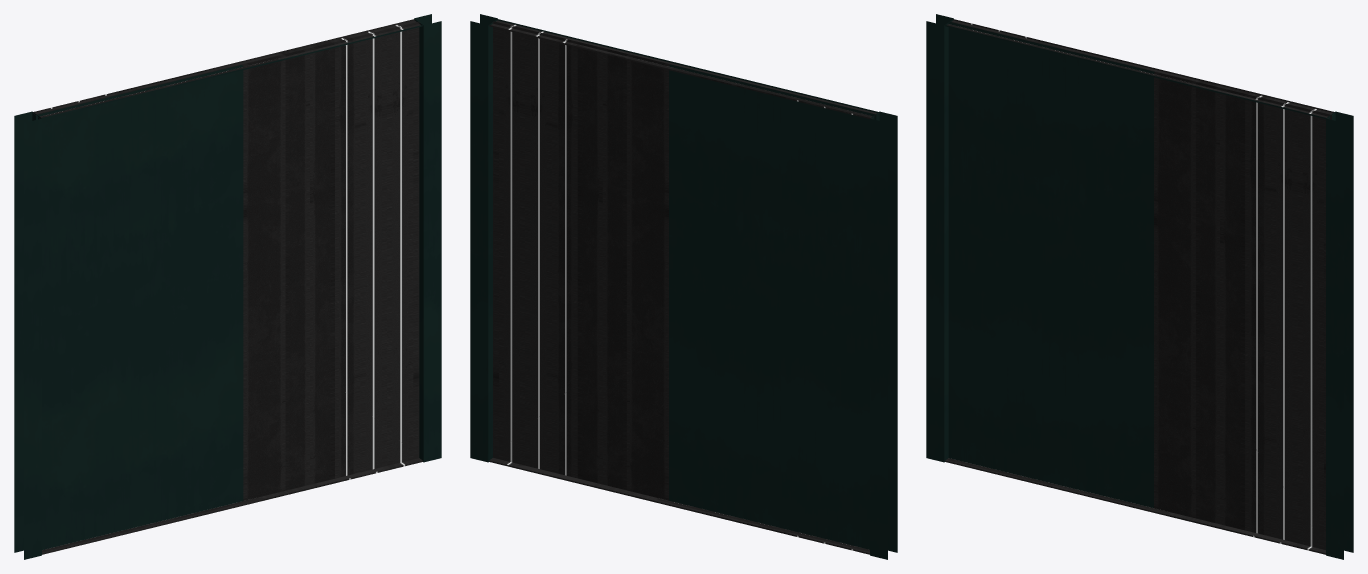
The model's file is Window_3m_A.fbx.
3 views of the same model, side by side, from view 1: azimuth 30°, elevation 25°; view 2: azimuth 150°, elevation 25°; view 3: azimuth 330°, elevation 25° (orthographic).
Parts seen in each view (by area): view 1: Window_3m_A; view 2: Window_3m_A; view 3: Window_3m_A.
Boxes of the visible parts, left/top/right/bottom form: Window_3m_A: left=14, top=14, right=441, bottom=559; Window_3m_A: left=470, top=14, right=897, bottom=559; Window_3m_A: left=926, top=14, right=1353, bottom=559.
Size of the model in its own units: 118 by 118 by 4.72.
